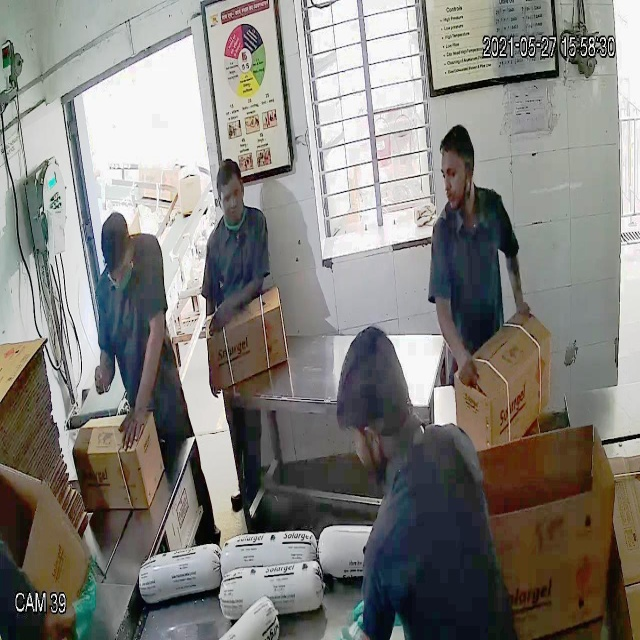Sin_gafas: (434, 161, 479, 191), (214, 184, 250, 211)
